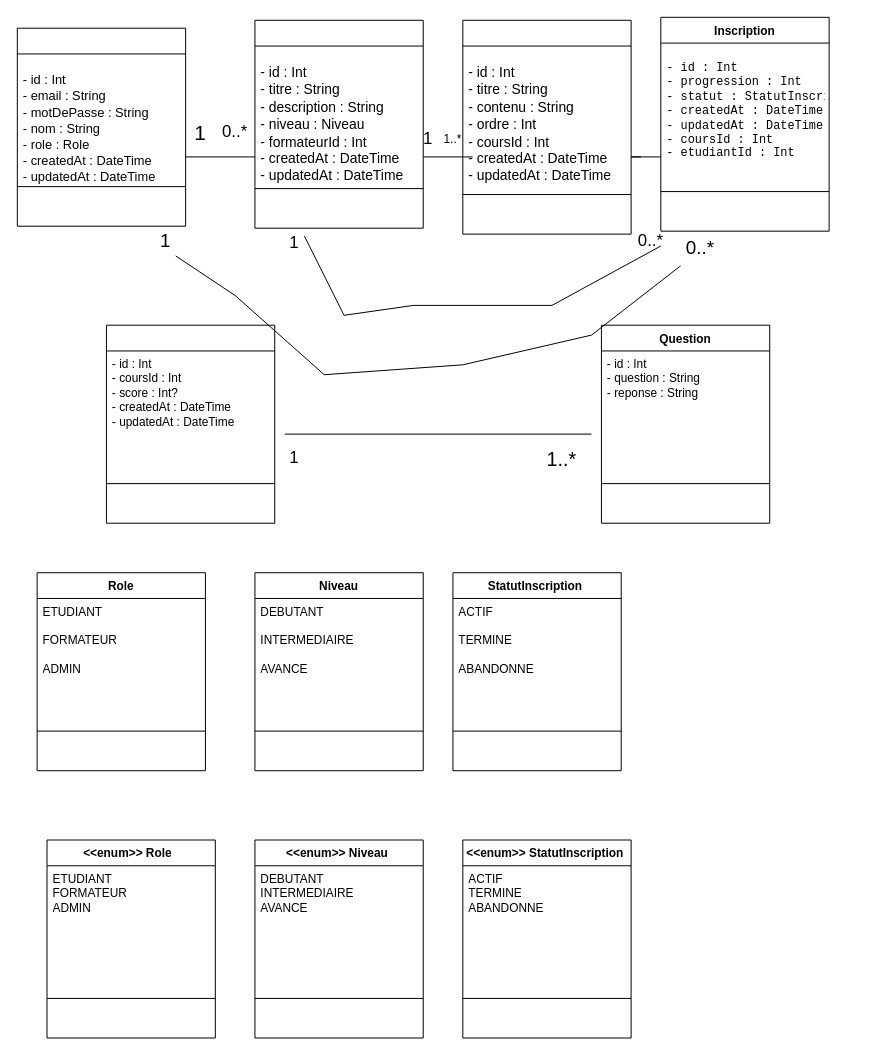
Image size: 882x1058. Some labels were removed from this diagram. Here are the shapes that lost their labels. From the top down, the box of each, then its label:
(16, 27, 186, 226): Utilisateur
(254, 19, 423, 228): Cours
(462, 19, 631, 234): Leçon
(105, 324, 275, 523): Quiz
